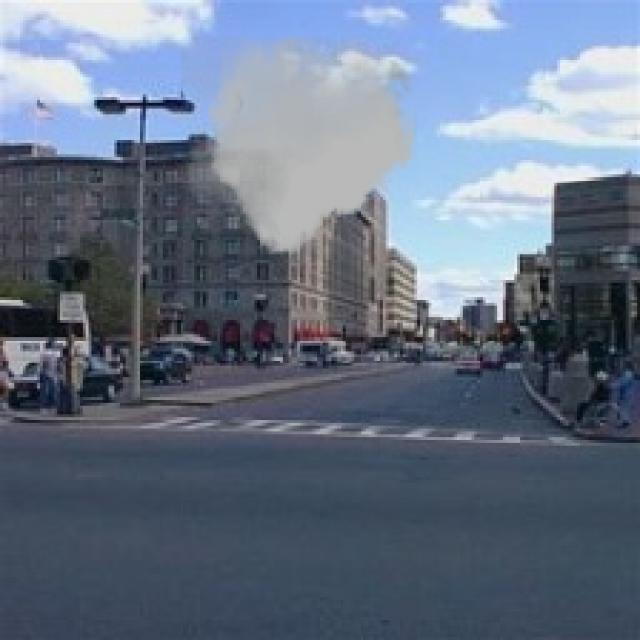Smoke: (180, 37, 420, 254)
